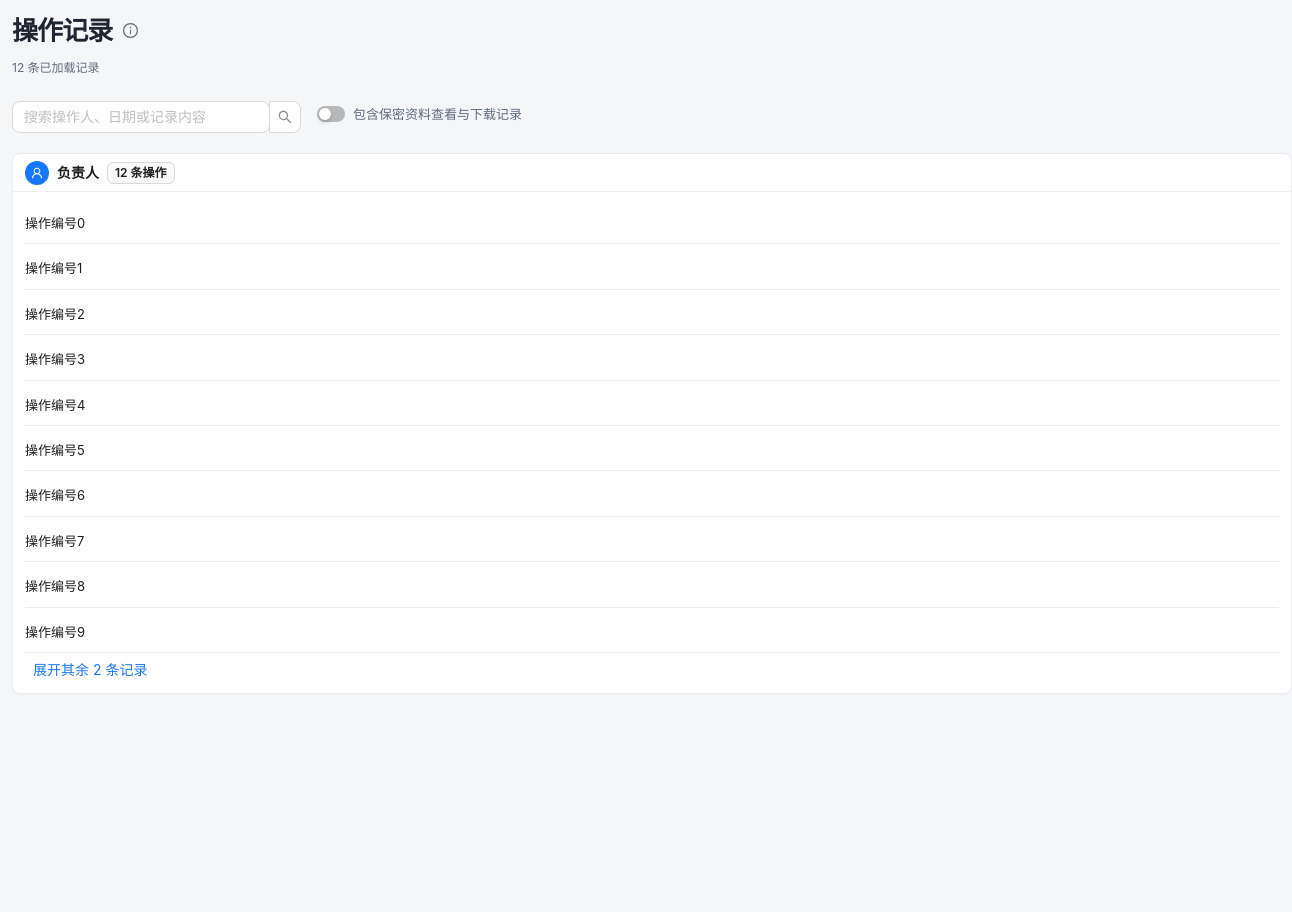
it: allows all fetched history to be inspected and collapsed
Check: the button "展开其余 2 条记录" is shown, box top-left (25, 657), bottom-right (155, 681)
Check: the text "操作编号11" is not shown
In the search field named "搜索已加载记录": point(133, 117) top-left (24, 106), bottom-right (242, 128), type "操作编号11"
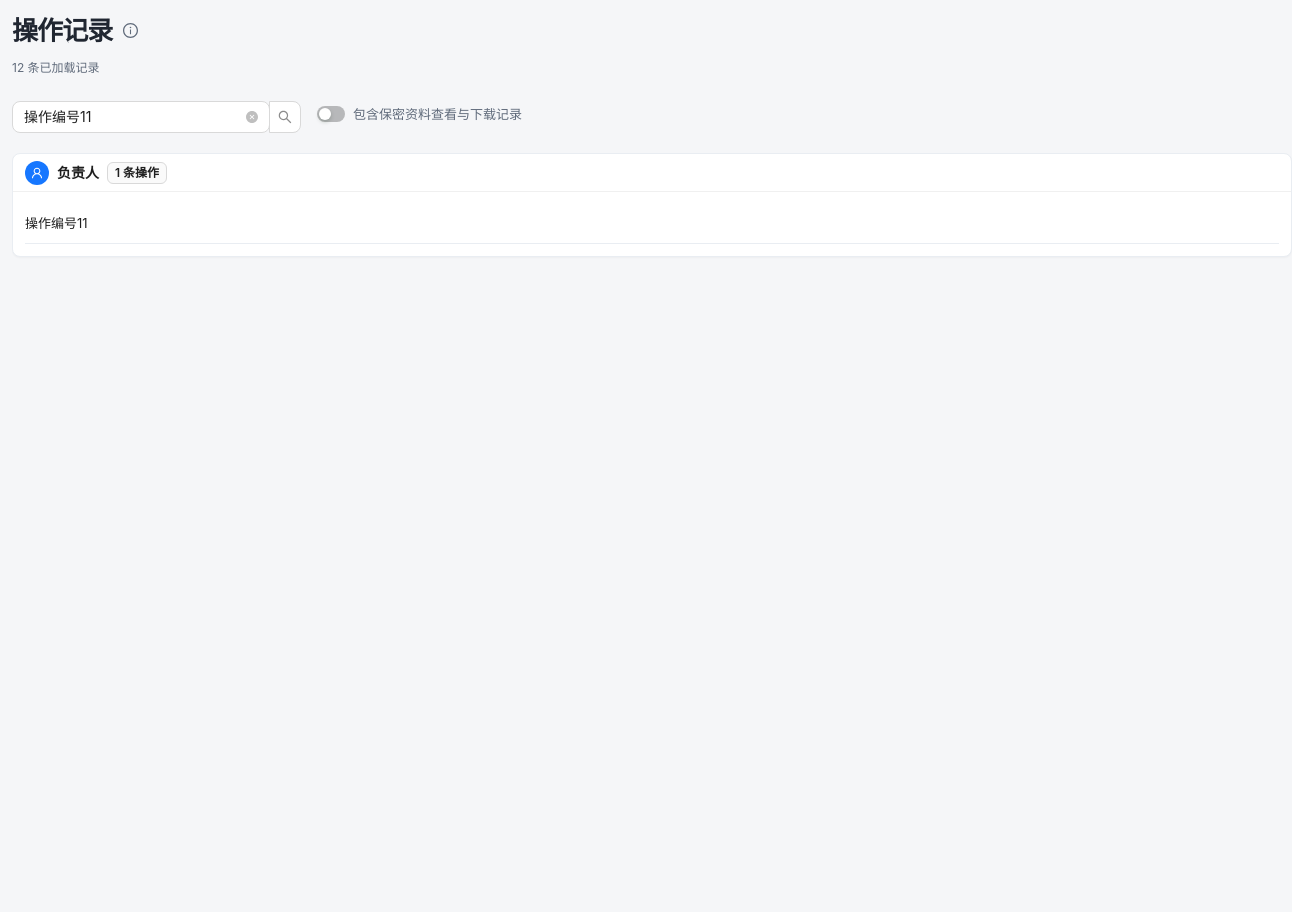
Check: the text "操作编号11" is shown, box top-left (25, 213), bottom-right (88, 233)
Check: the text "操作编号0" is gone
Clear the search field named "搜索已加载记录": point(133, 117) top-left (24, 106), bottom-right (242, 128)
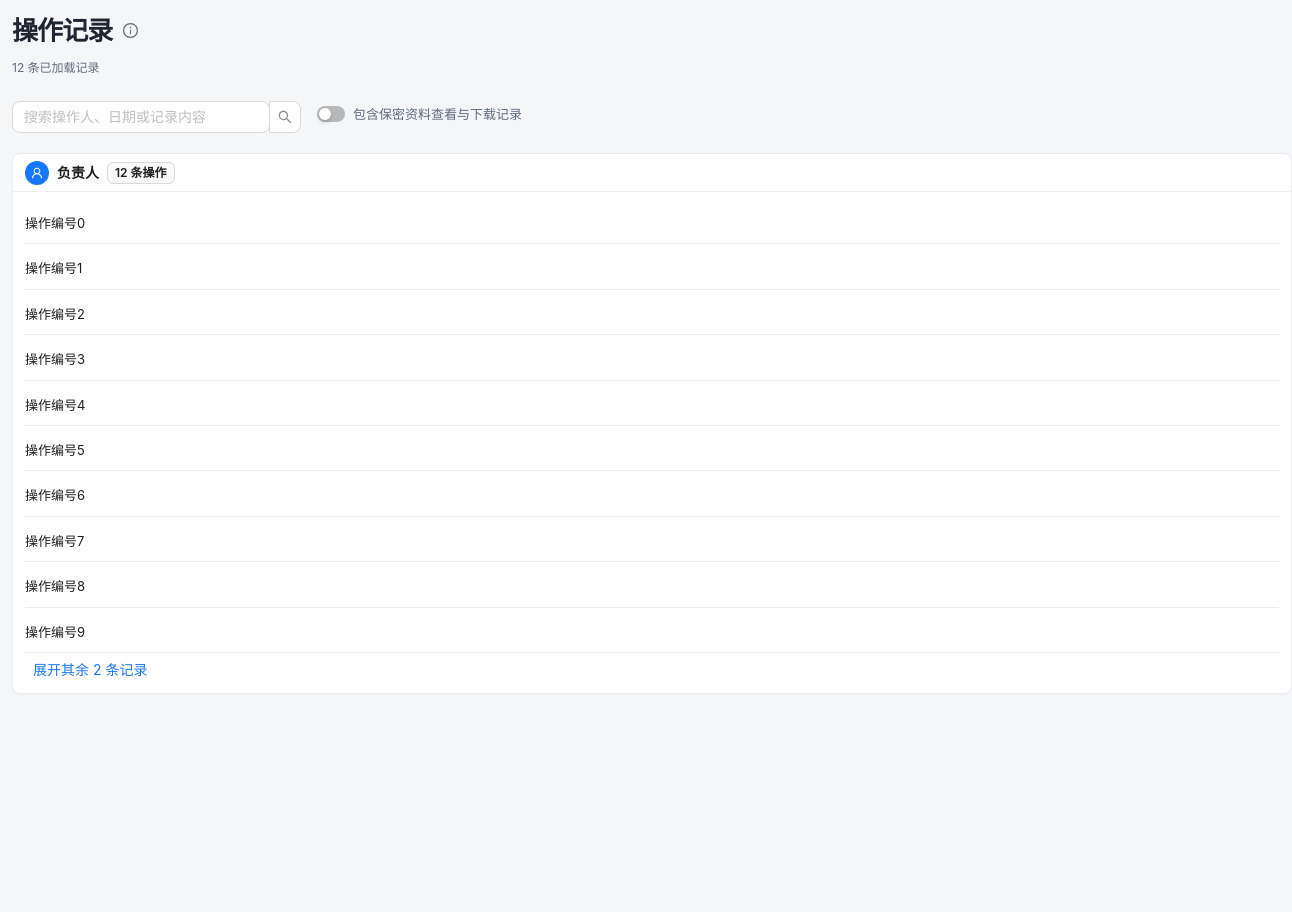
Click the button "展开其余 2 条记录": point(90, 669) top-left (25, 657), bottom-right (155, 681)
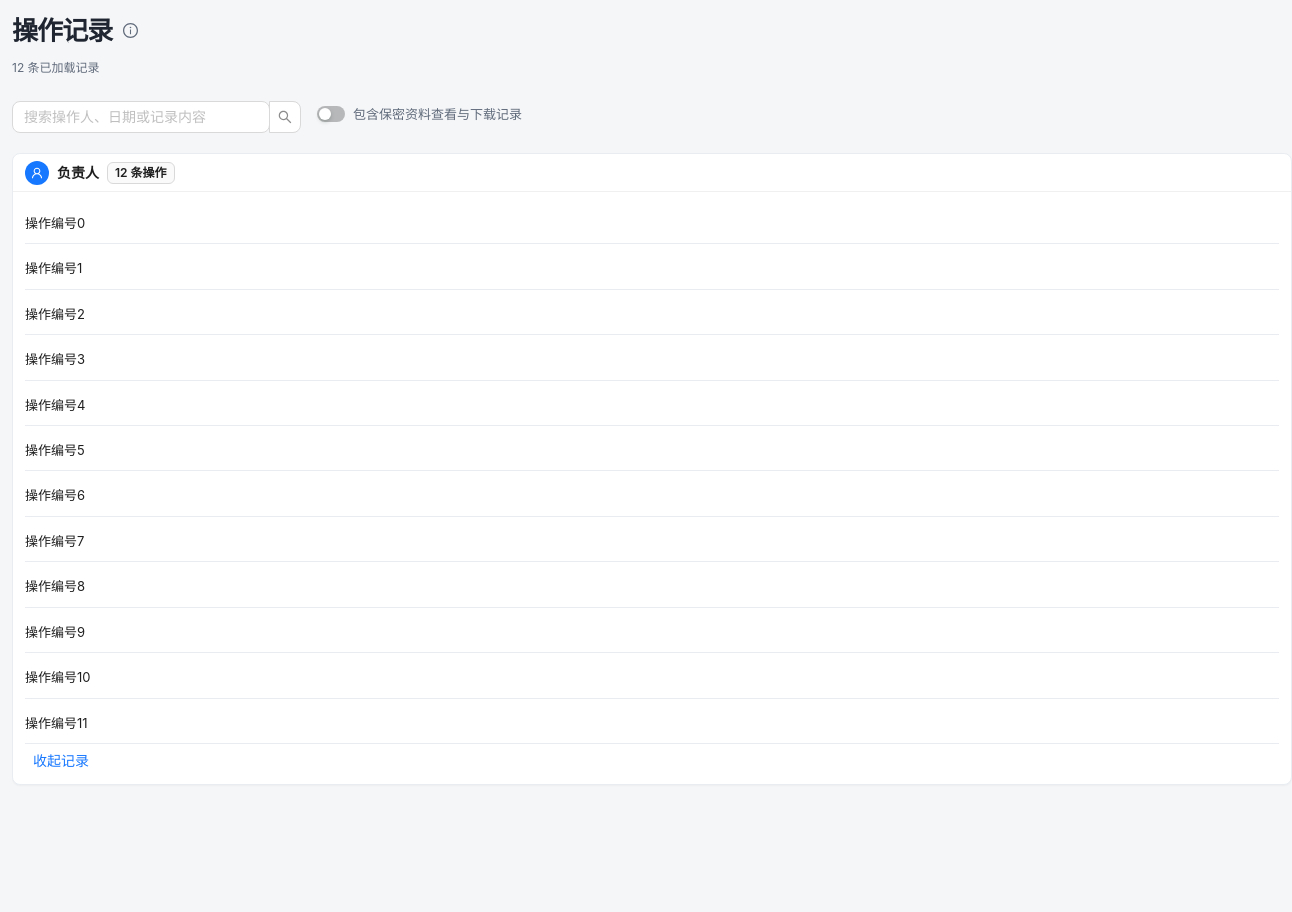
Check: the text "操作编号11" is shown, box top-left (25, 712), bottom-right (88, 733)
Click the button "收起记录": point(61, 760) top-left (25, 748), bottom-right (97, 772)
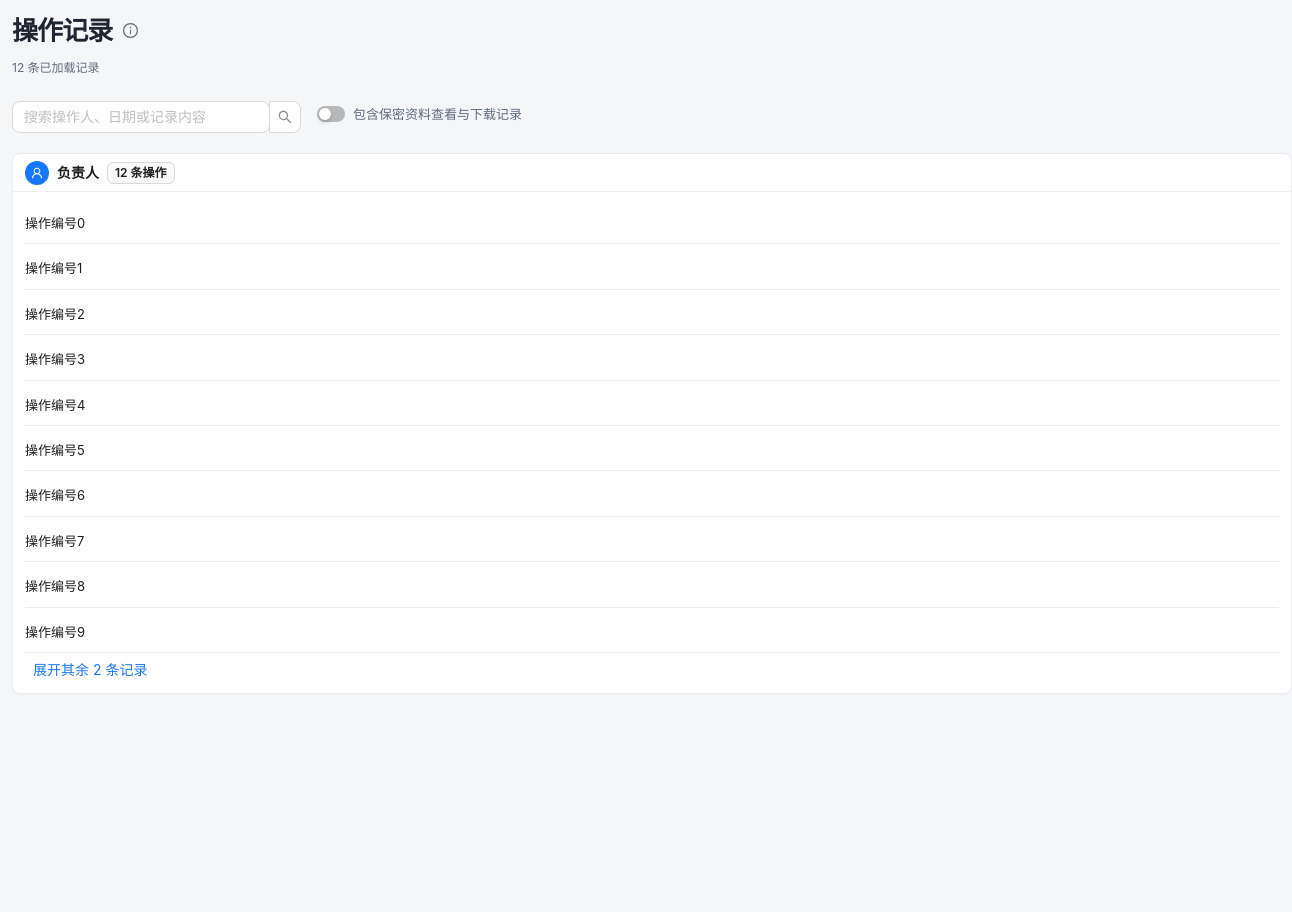
Check: the text "操作编号11" is gone
